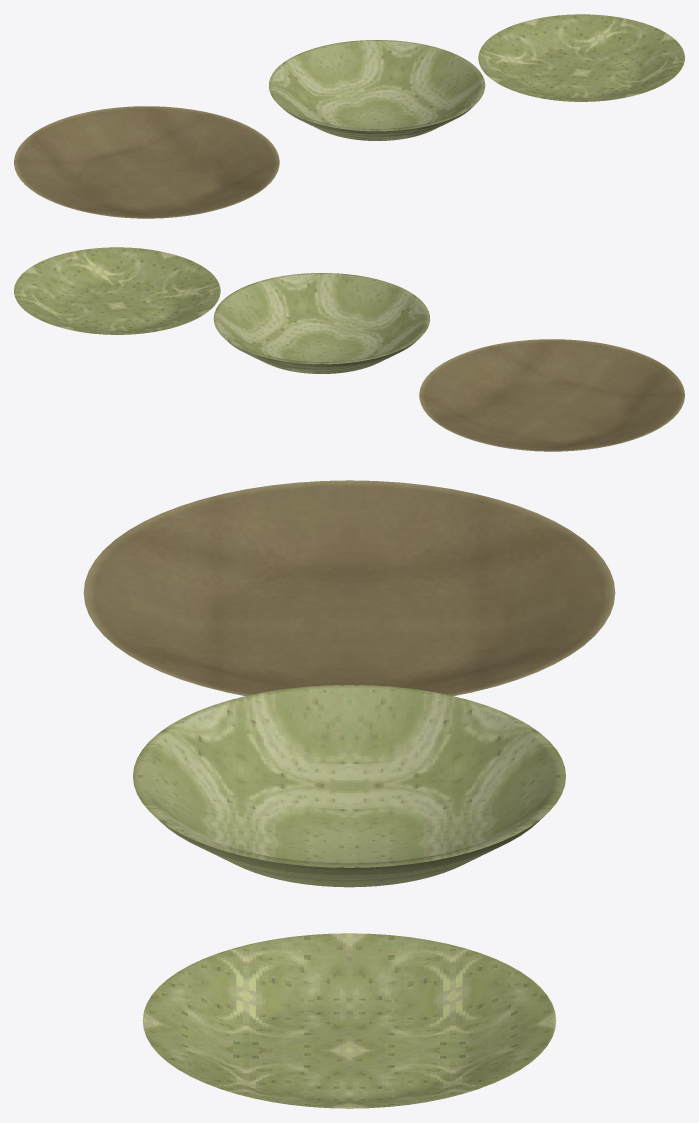
Rendered from RAY-13.glb.
3 renders of one model, top to bottom at view 1: azimuth 30°, elevation 25°; view 2: azimuth 150°, elevation 25°; view 3: azimuth 270°, elevation 25°, orthographic. The views are drawn at different scales.
Bounding box in the file's own units: 0.75 × 0.045 × 0.27.
Materials: 6 (6 with a texture image).
